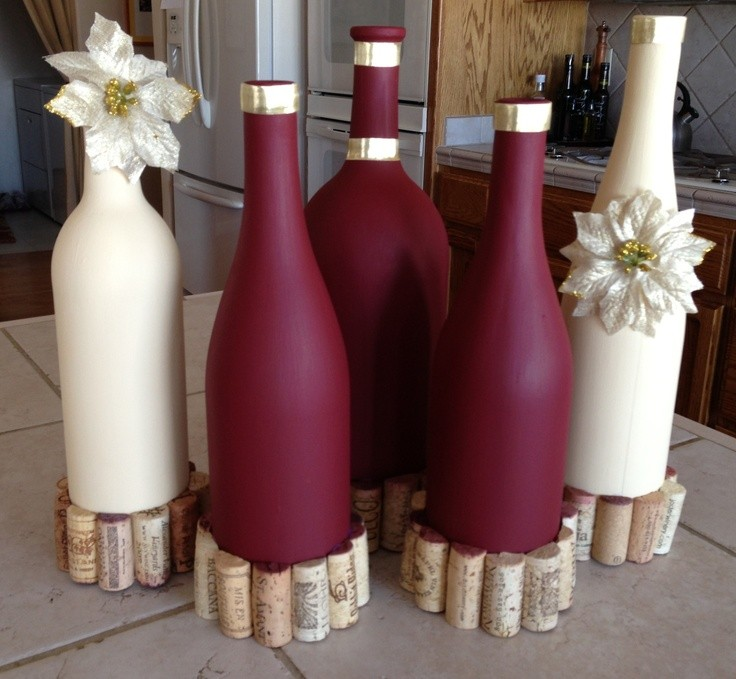bottle: (206, 79, 349, 565), (303, 25, 447, 485), (429, 98, 572, 554), (558, 11, 691, 493), (56, 74, 194, 511)
